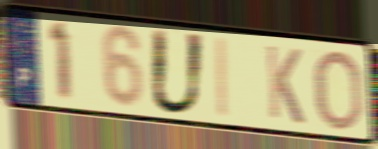1: (45, 20, 78, 104)
6: (99, 22, 149, 114)
I: (216, 35, 231, 122)
K: (263, 42, 306, 128)
O: (313, 47, 365, 133)
U: (147, 25, 207, 118)
